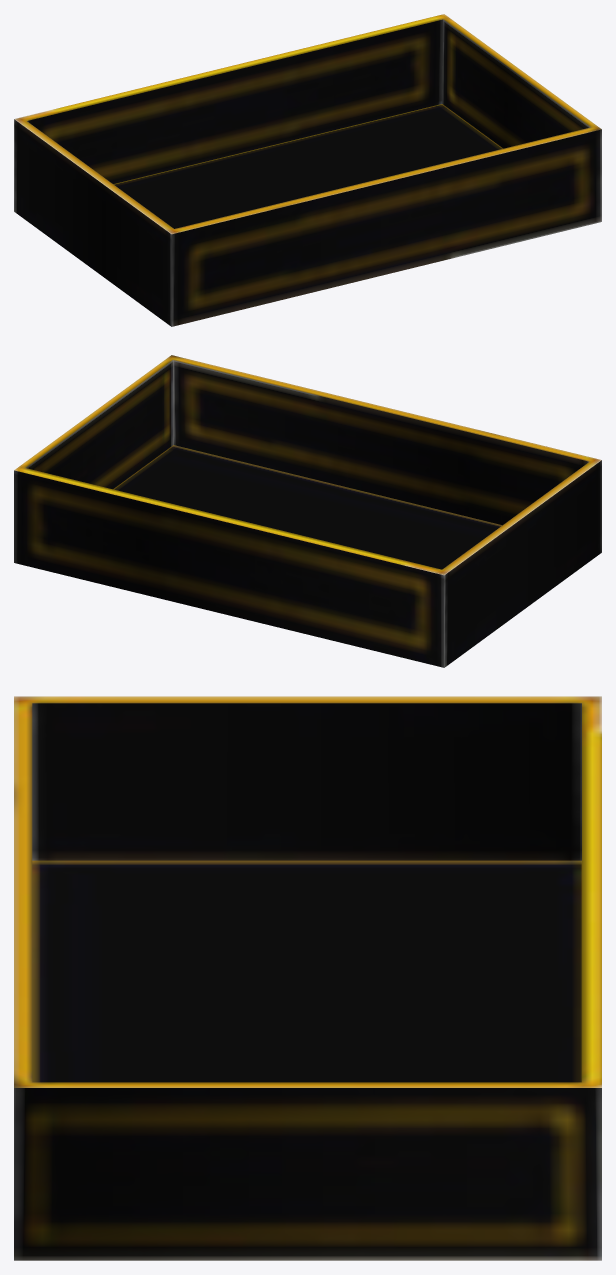
Rendered from SMz_Box.fbx.
3 renders of one model, top to bottom at view 1: azimuth 30°, elevation 25°; view 2: azimuth 150°, elevation 25°; view 3: azimuth 270°, elevation 25°, orthographic. The views are drawn at different scales.
Parts seen in each view (by area): view 1: prop_SMz_Box; view 2: prop_SMz_Box; view 3: prop_SMz_Box.
Part boxes in pixels (x1,y1,x2,y2): prop_SMz_Box: (14,14,601,326); prop_SMz_Box: (14,355,601,667); prop_SMz_Box: (14,696,601,1260).
Size of the model in its own units: 0.5493 by 0.1129 by 0.3484.
